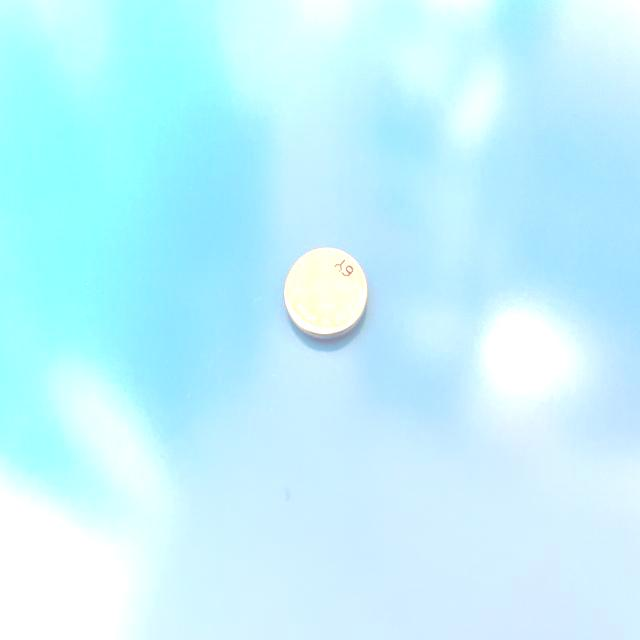COIN: (285, 246, 368, 338)
